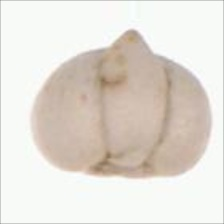L5: (95, 26, 175, 162), (83, 154, 164, 180)
L6: (28, 27, 215, 181)
